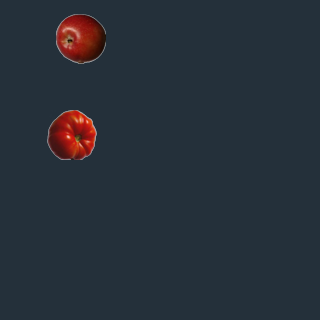Apple Braeburn: (55, 13, 105, 63)
Tomato 3: (46, 109, 96, 159)
